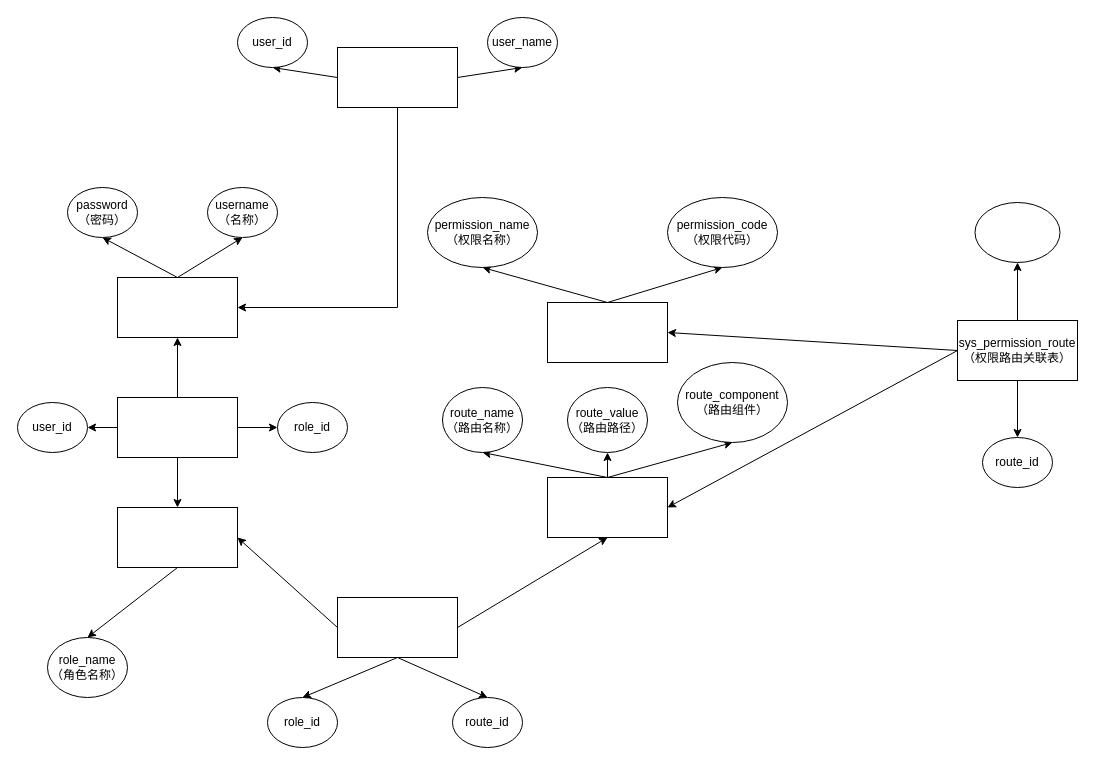
Some shapes in this 1095 by 765 pixel diagram are drawn without their labels. Here are the shapes that lost their labels. From the top down, the centre of each, then its label:
At [397,77]: "超级管理员表（sys_super_admin）".
At [1017,232]: "permission_id".
At [177,307]: "用户表（sys_user）".
At [607,332]: "sys_permission（权限表）".
At [177,427]: "用户_角色关联表（sys_user_role）".
At [607,507]: "sys_route（路由表）".
At [177,537]: "角色表（sys_role）".
At [397,627]: "sys_role_route（角色路由关联表）".
